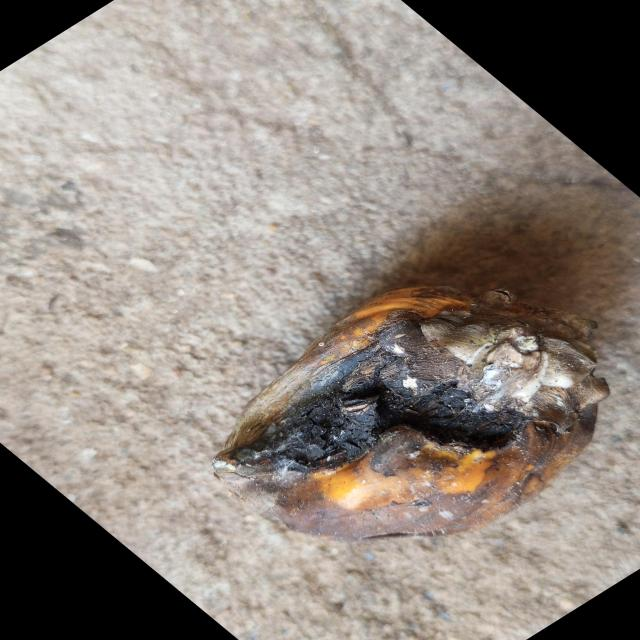damaged: (216, 296, 610, 543)
